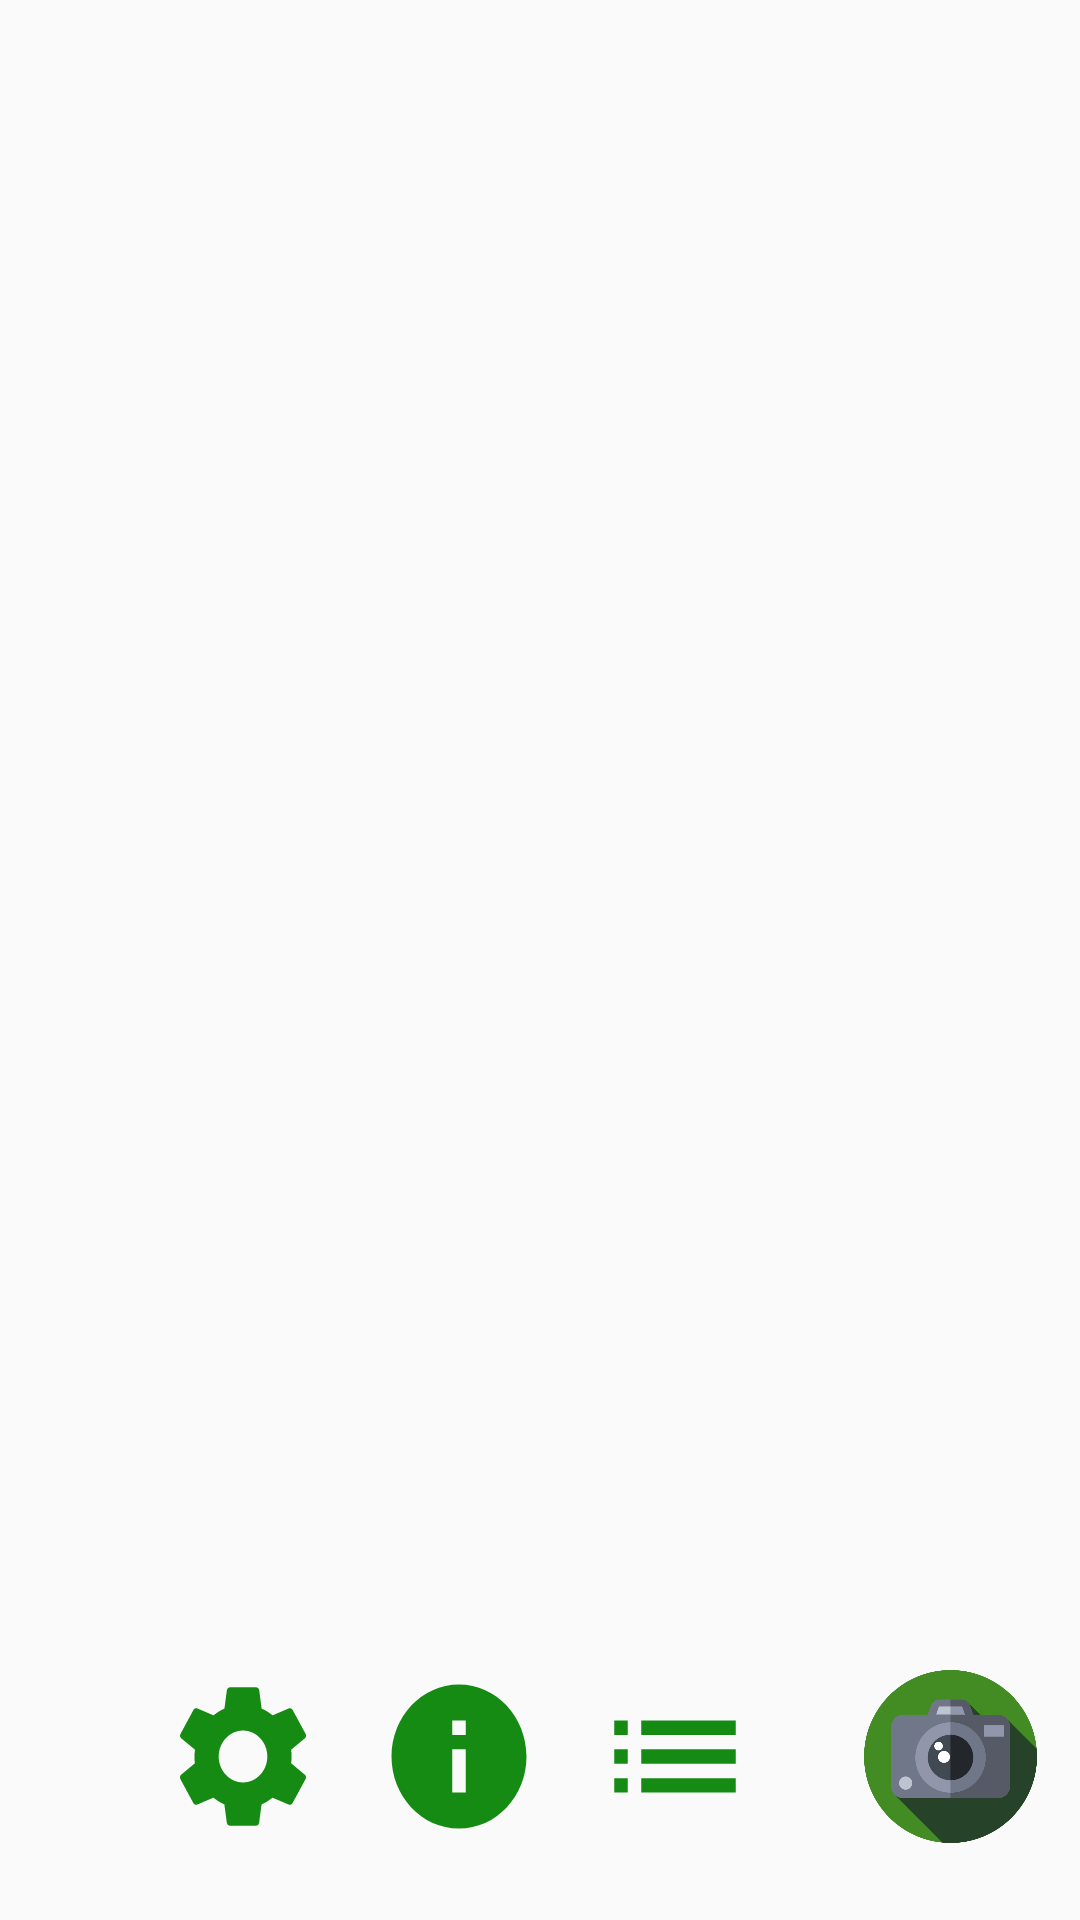

Screen size 1080 x 1920. Icon name, then its box in pixels as (x1, y1, x2, y2):
cameraicon: (864, 1670, 1037, 1843)
infoicon: (391, 1684, 527, 1829)
listicon: (614, 1720, 736, 1793)
settingsicon: (180, 1687, 306, 1826)
